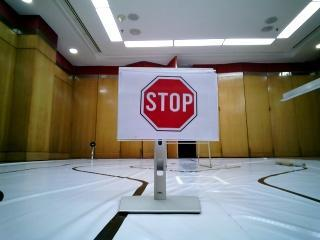stop: (120, 69, 203, 132)
